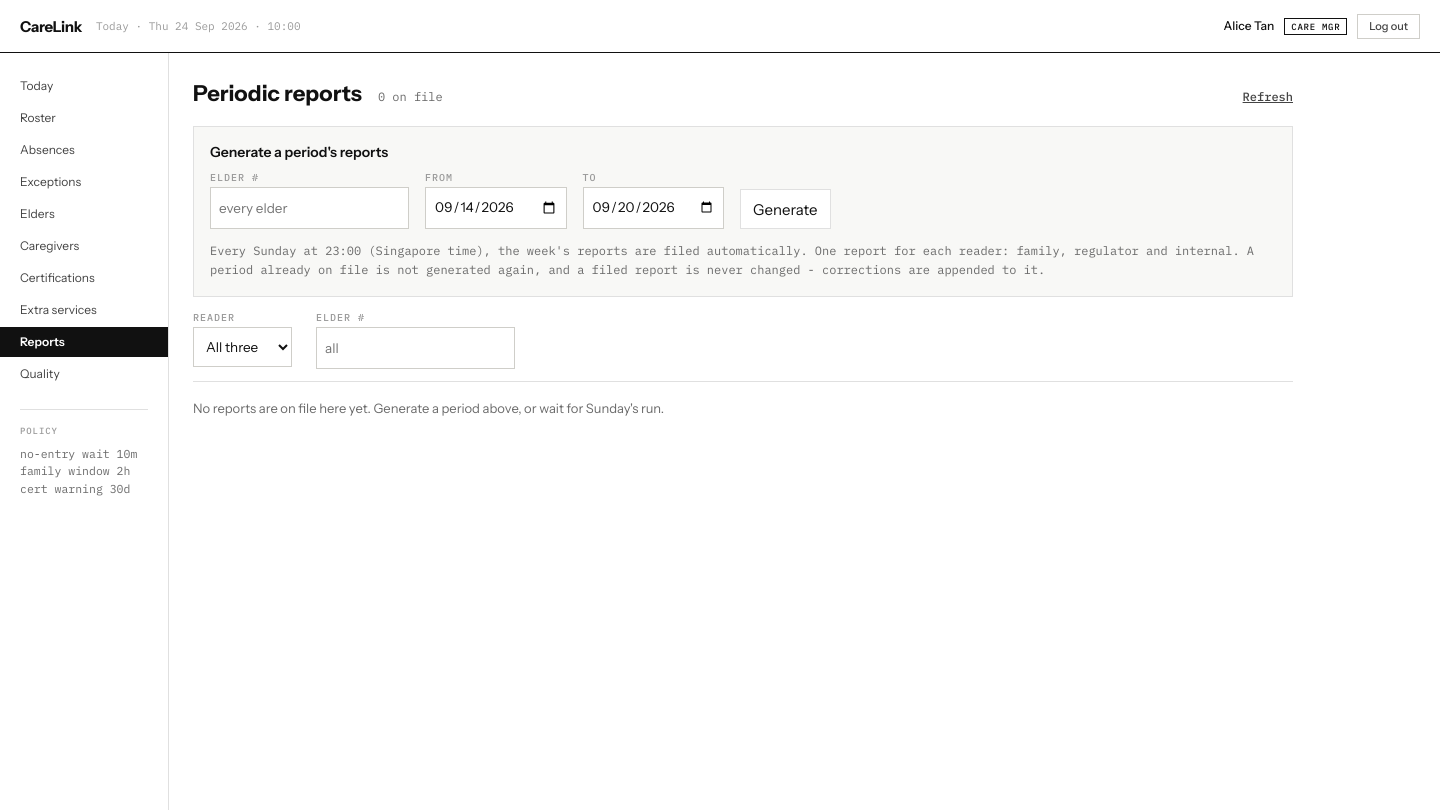
the report list › refuses an elder that is not a number rather than generating for everybody
This screenshot has width=1440, height=810.
Type "Grace" into the field labelled "Elder #" below "From" at (310, 208), box [210,187,409,229]
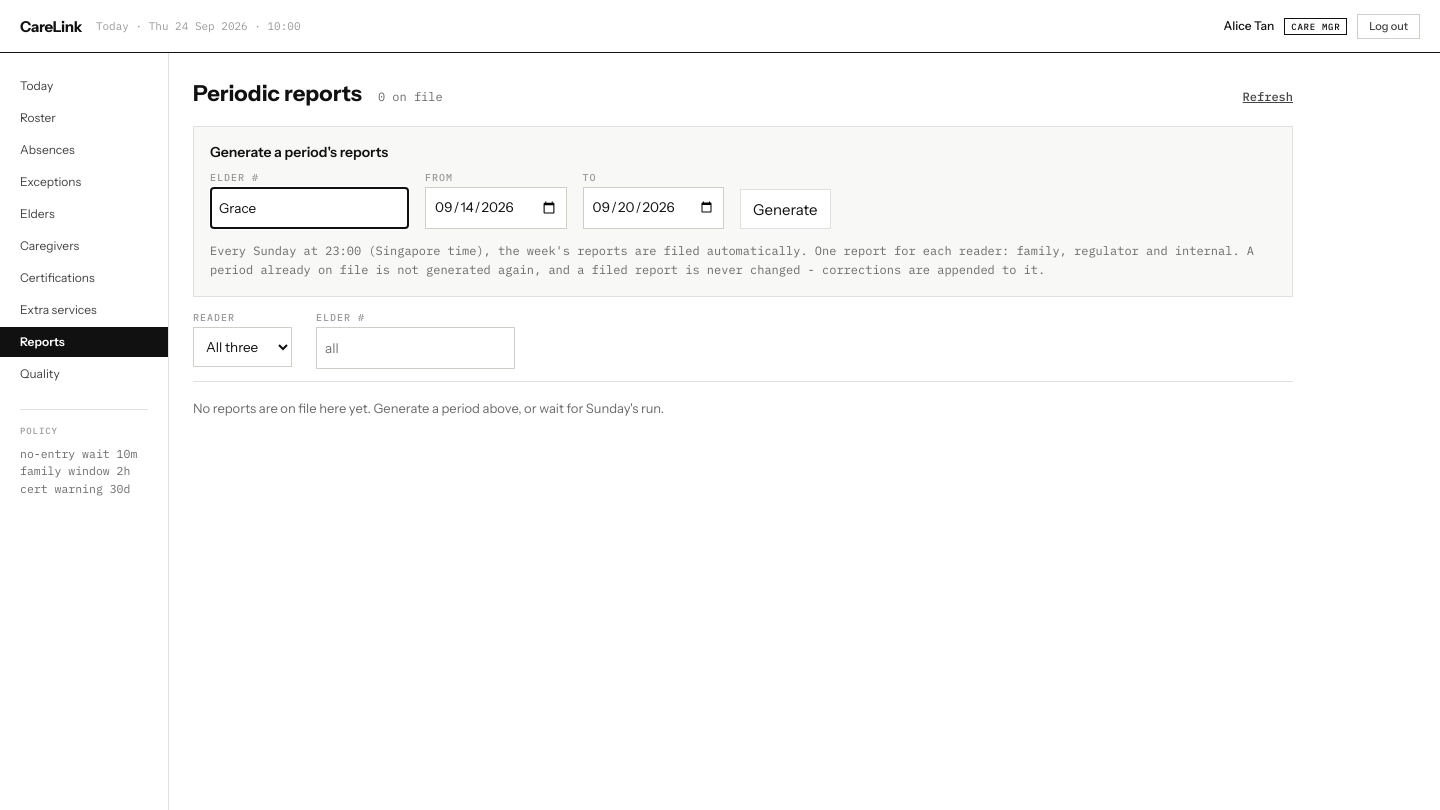
Click the button "Generate" at (785, 209), box [740,189,830,229]
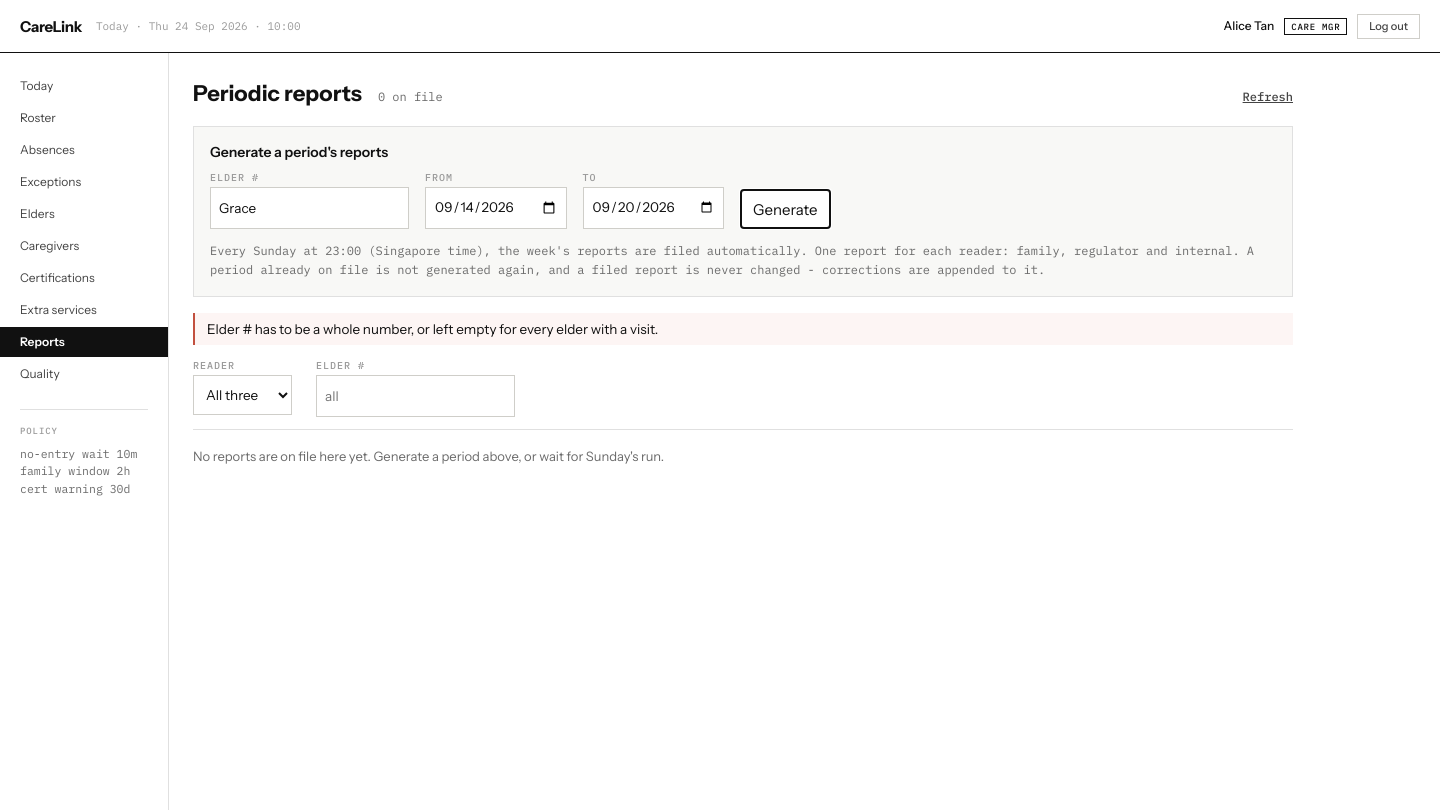
Result: the message shows "Elder # has to be a whole number" at [207,321,658,337]
